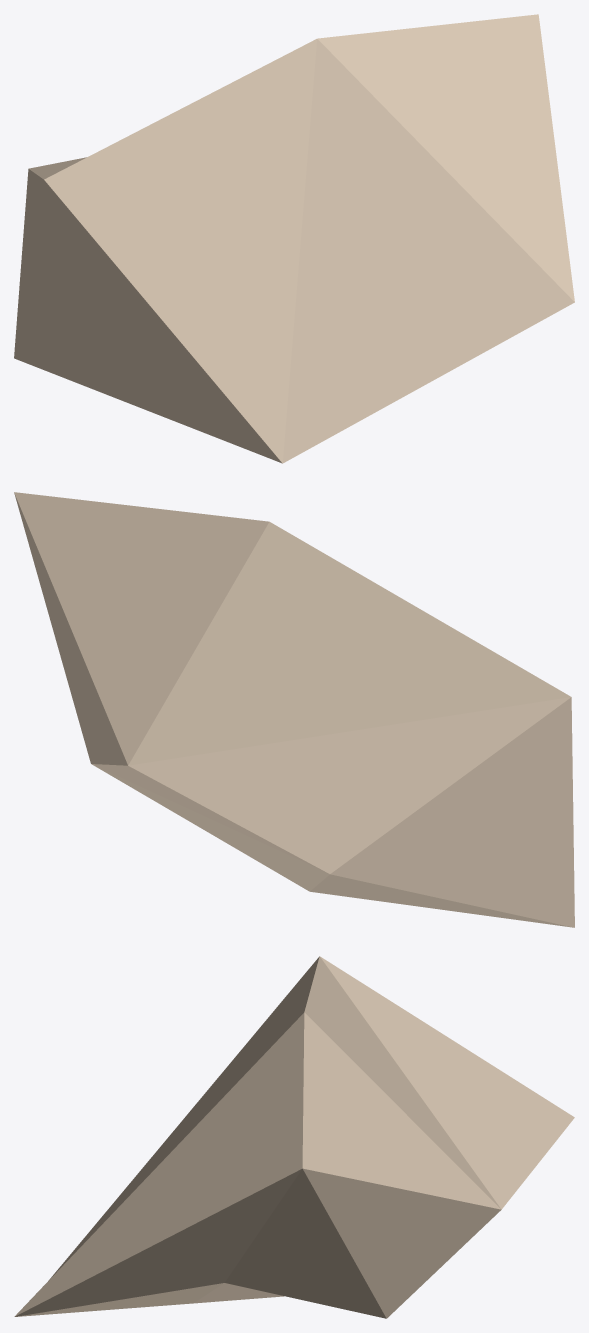
File: Forest_Rock1.fbx
3 views of the same model, one above another, from view 1: azimuth 30°, elevation 25°; view 2: azimuth 150°, elevation 25°; view 3: azimuth 270°, elevation 25° (orthographic). The views are drawn at different scales.
Parts seen in each view (by area): view 1: Icosphere.003; view 2: Icosphere.003; view 3: Icosphere.003.
Part boxes in pixels (bbox=[...]): Icosphere.003: bbox=[14, 14, 574, 463]; Icosphere.003: bbox=[14, 492, 574, 927]; Icosphere.003: bbox=[14, 956, 574, 1318].
Bounding box in the file's own units: 174 × 101 × 146.
